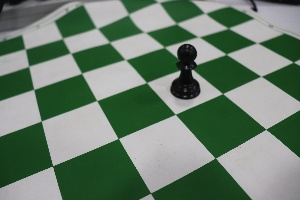black_pawn: (159, 27, 205, 105)
